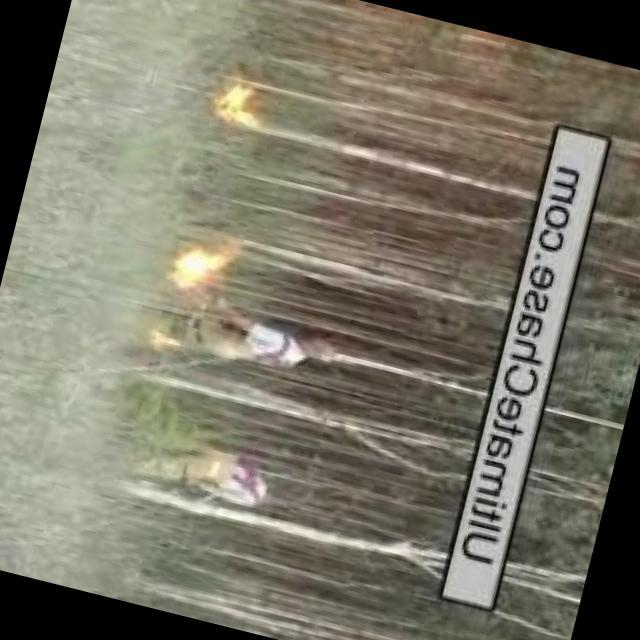Fire: (161, 236, 235, 298), (211, 80, 265, 130), (145, 325, 182, 351)
